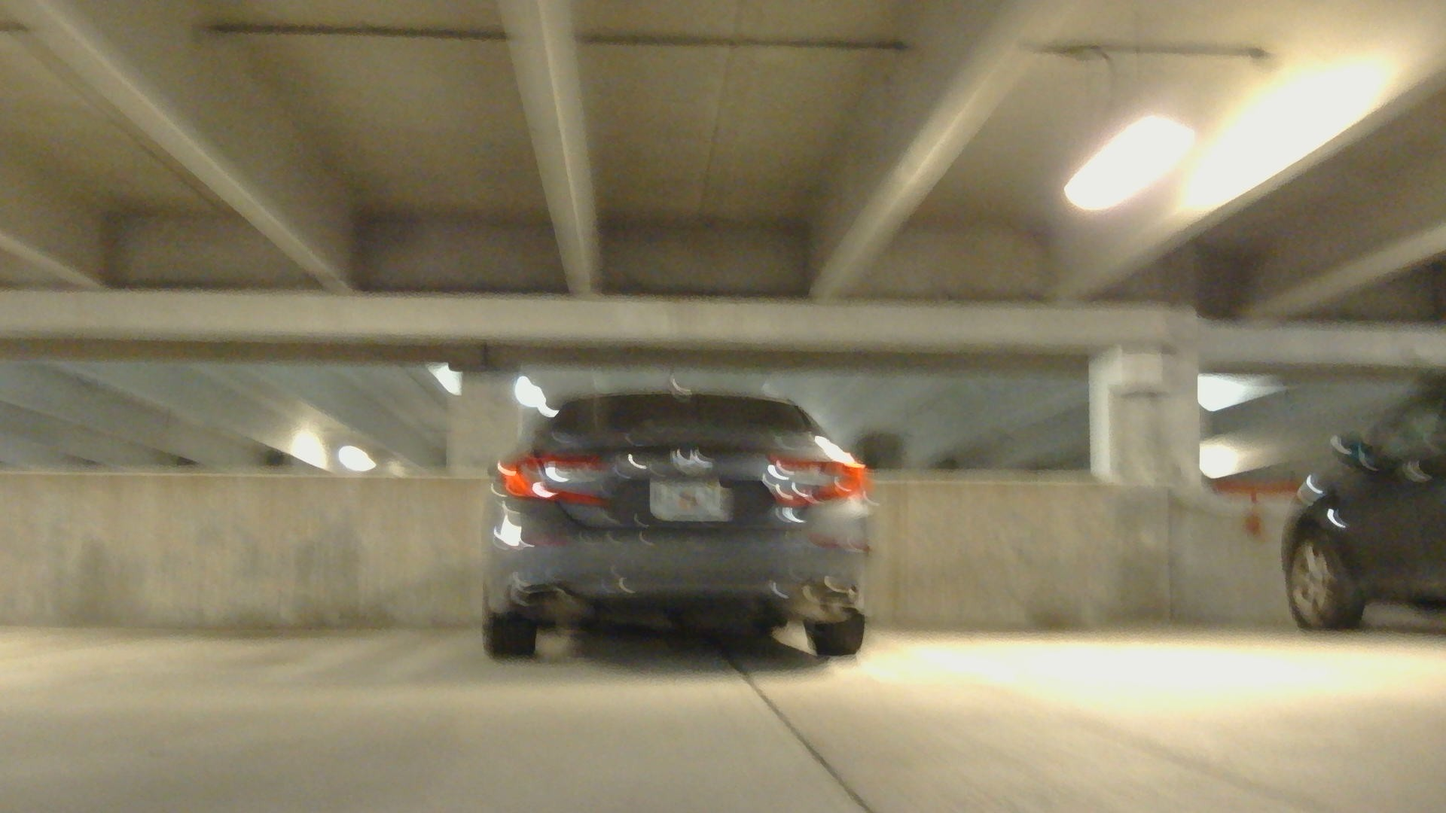empty_spot: (886, 551, 1443, 701), (1, 541, 429, 686)
occupied_spot: (471, 389, 878, 683), (1288, 373, 1445, 641)
